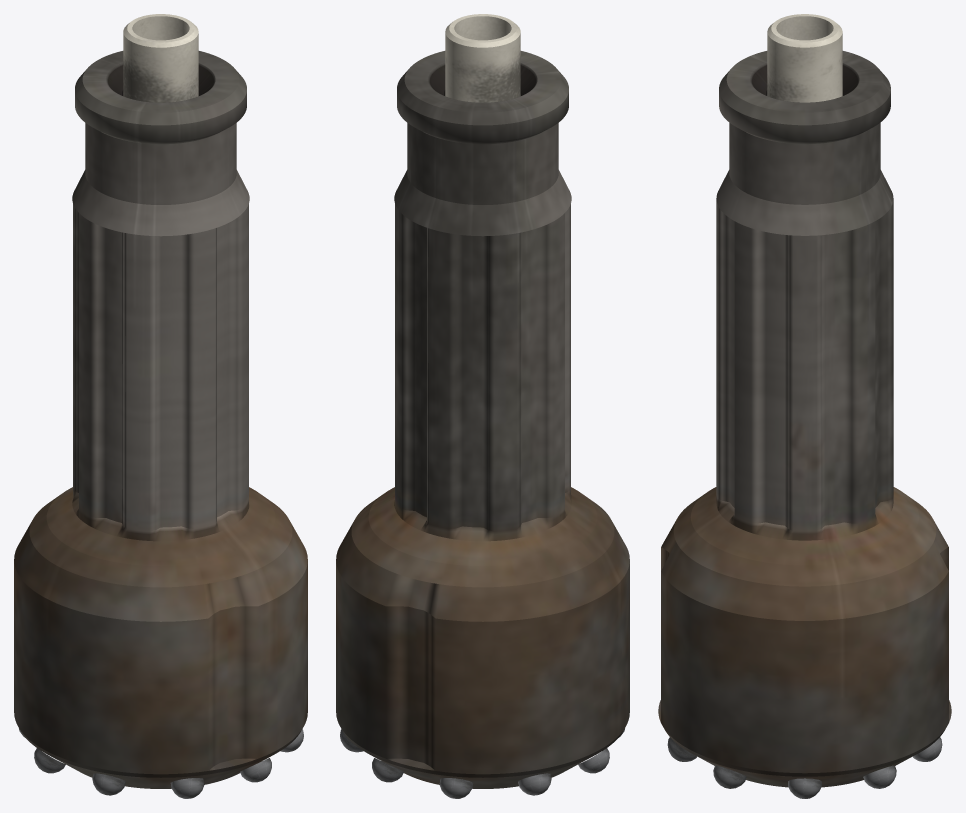
File: SM_Bit_4_1_2po.glb
3 views of the same model, side by side, from view 1: azimuth 30°, elevation 25°; view 2: azimuth 150°, elevation 25°; view 3: azimuth 270°, elevation 25° (orthographic).
Visible parts, largest first — view 1: Bit_4_1_2po, Bit_4_1_2po_TubeDePied, Bit_4_1_2po_Boutons; view 2: Bit_4_1_2po, Bit_4_1_2po_TubeDePied, Bit_4_1_2po_Boutons; view 3: Bit_4_1_2po, Bit_4_1_2po_TubeDePied, Bit_4_1_2po_Boutons.
Part boxes in pixels (x1,y1,x2,y2): Bit_4_1_2po: [14, 51, 307, 788]; Bit_4_1_2po_TubeDePied: [123, 14, 198, 102]; Bit_4_1_2po_Boutons: [19, 728, 303, 798]; Bit_4_1_2po: [336, 51, 629, 788]; Bit_4_1_2po_TubeDePied: [445, 14, 520, 102]; Bit_4_1_2po_Boutons: [340, 728, 624, 798]; Bit_4_1_2po: [658, 51, 951, 787]; Bit_4_1_2po_TubeDePied: [767, 14, 842, 102]; Bit_4_1_2po_Boutons: [667, 737, 942, 798].
Bounding box in the file's own units: 0.1143 × 0.3129 × 0.1143.
Materials: 3 (3 with a texture image).
